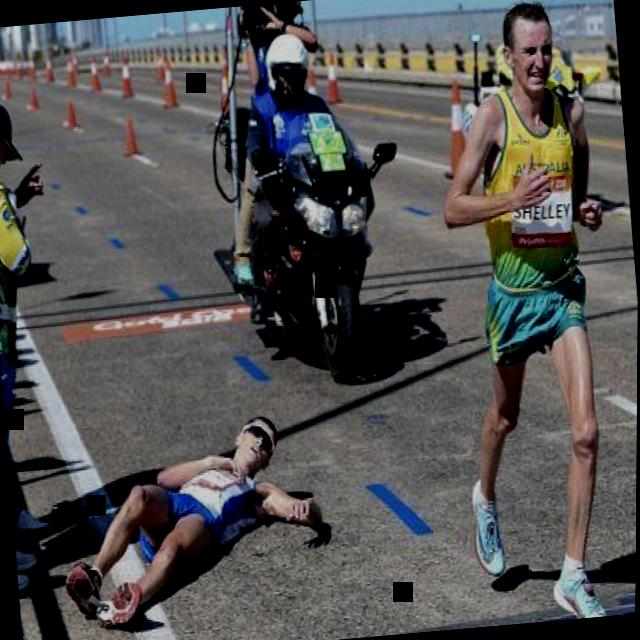Fall-Detected: (35, 380, 346, 639)
